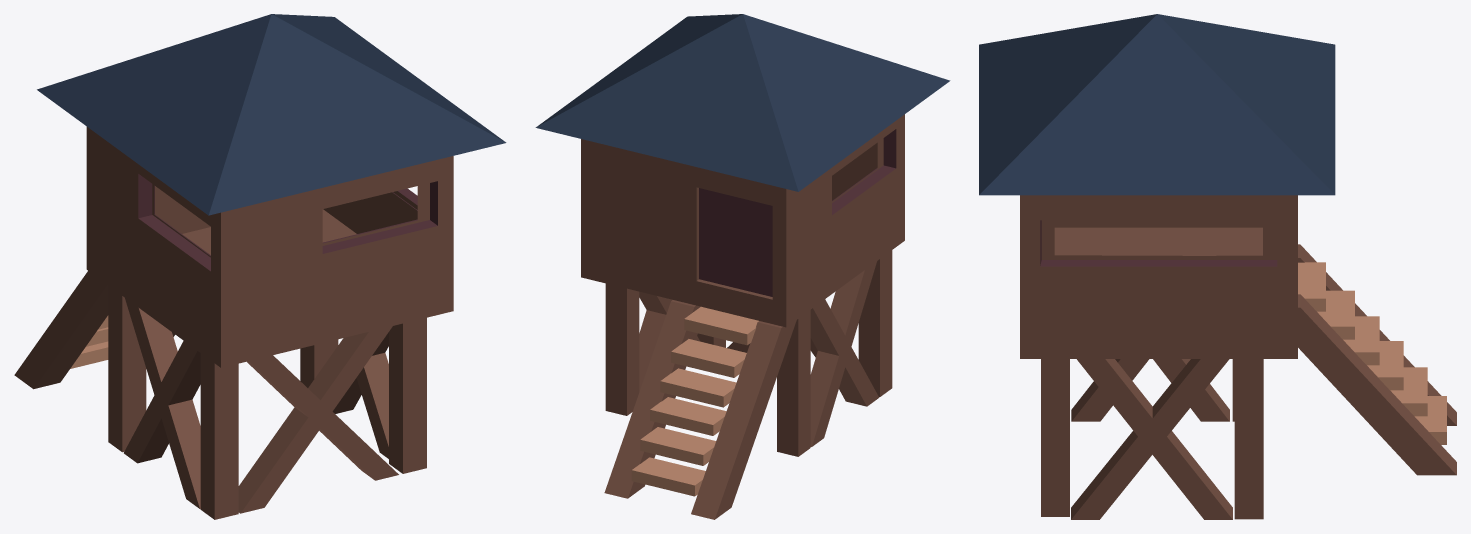
The model's file is watch_tower.fbx.
3 views of the same model, side by side, from view 1: azimuth 30°, elevation 25°; view 2: azimuth 150°, elevation 25°; view 3: azimuth 270°, elevation 25° (orthographic). The views are drawn at different scales.
Parts seen in each view (by area): view 1: watch_tower; view 2: watch_tower; view 3: watch_tower.
Boxes of the visible parts, x1,y1,x2,y2 form: watch_tower: (14,14,506,519); watch_tower: (535,14,950,519); watch_tower: (979,14,1456,519).
Bounding box in the file's own units: 161 × 228 × 216.
